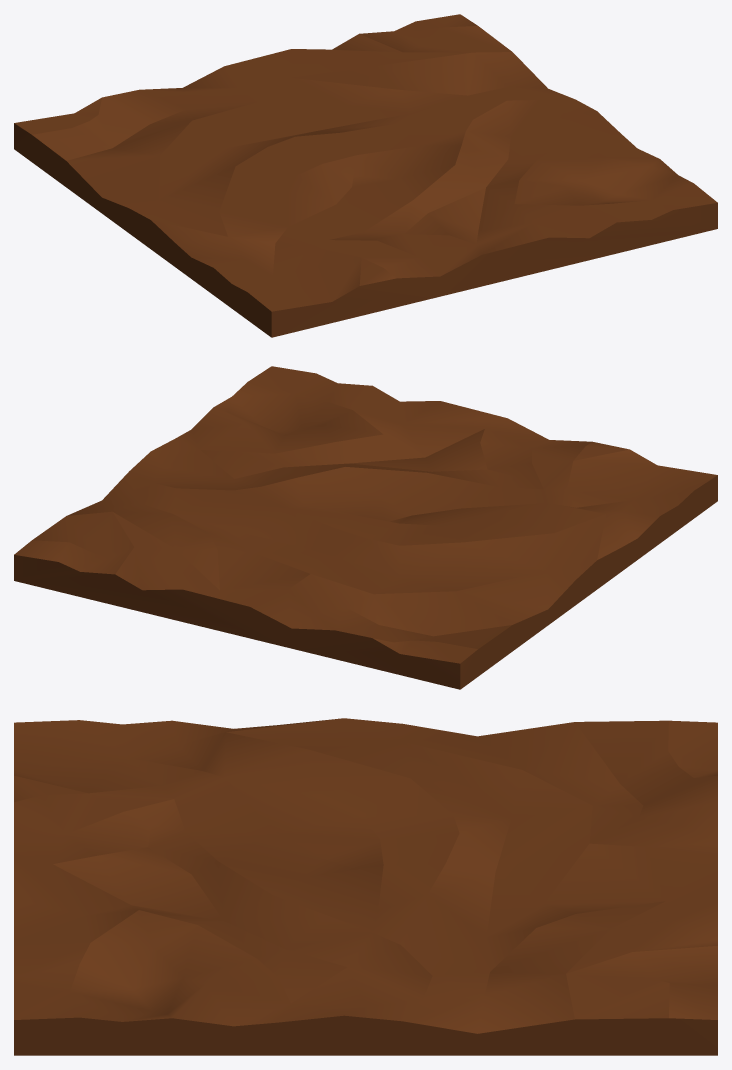
File: Ground_Base_A_1.fbx
3 views of the same model, one above another, from view 1: azimuth 30°, elevation 25°; view 2: azimuth 150°, elevation 25°; view 3: azimuth 270°, elevation 25° (orthographic). The views are drawn at different scales.
Visible parts, largest first — view 1: Ground_Base_A_1; view 2: Ground_Base_A_1; view 3: Ground_Base_A_1.
Part boxes in pixels (x1,y1,x2,y2): Ground_Base_A_1: (14, 14, 717, 337); Ground_Base_A_1: (14, 366, 717, 689); Ground_Base_A_1: (14, 718, 717, 1055).
Size of the model in its own units: 147 by 12.24 by 147.
